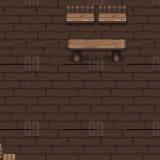Obstacle: (60, 31, 133, 64), (97, 0, 133, 31), (60, 0, 97, 30), (0, 139, 21, 160)
